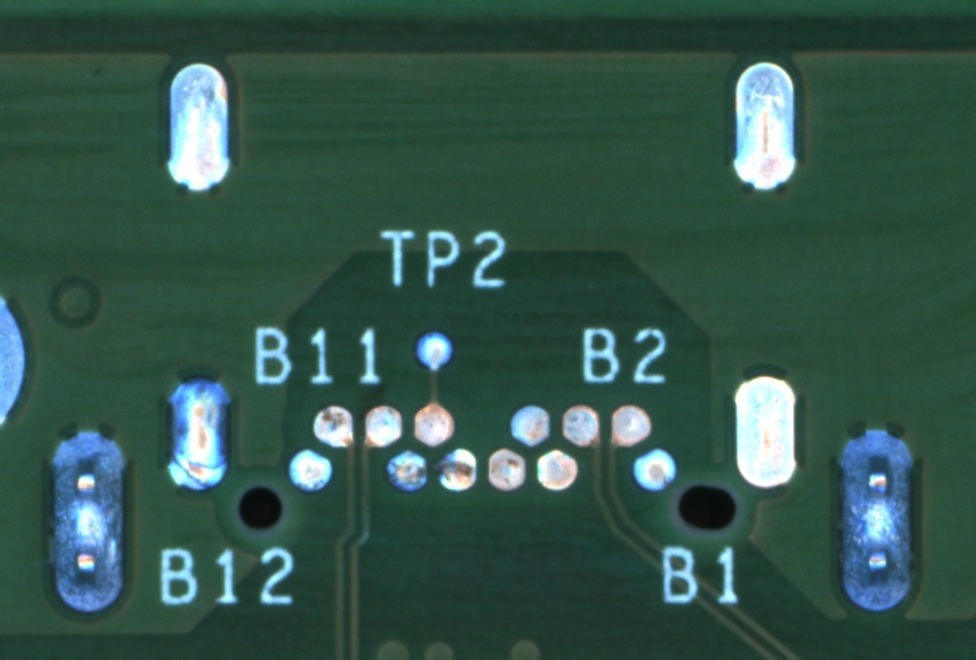SOLDER: (483, 445, 529, 496), (534, 444, 580, 495), (607, 399, 653, 450), (557, 398, 603, 449), (433, 444, 479, 495), (632, 445, 677, 496), (506, 400, 551, 451), (410, 398, 455, 449), (360, 400, 405, 451), (310, 401, 355, 452), (384, 446, 429, 497), (287, 444, 332, 495)
SOLDER2: (40, 420, 136, 620), (829, 418, 925, 618), (723, 355, 805, 508), (723, 51, 805, 203), (159, 352, 240, 505), (157, 52, 238, 204)
